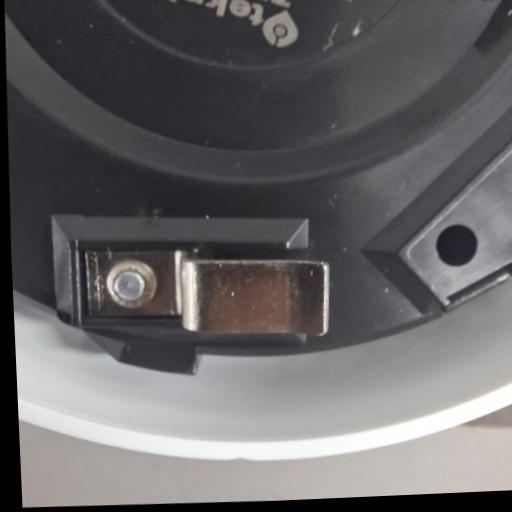yaysiz: (75, 237, 331, 346)
